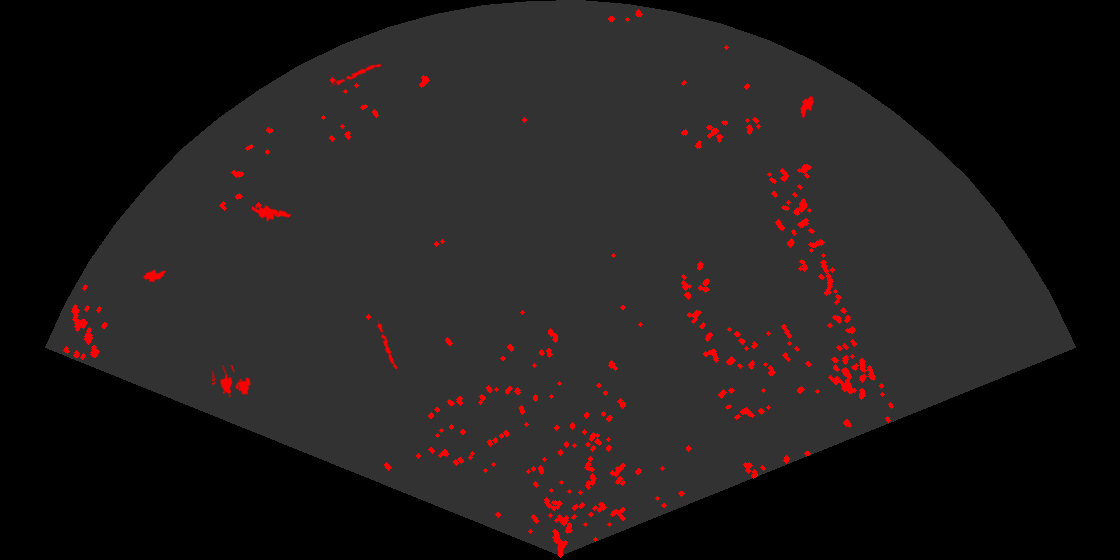AUV: (799, 94, 816, 120), (141, 268, 168, 284)
cage: (212, 365, 252, 399)
chain: (330, 62, 382, 89), (375, 320, 400, 373)
frogman: (252, 204, 292, 223)
